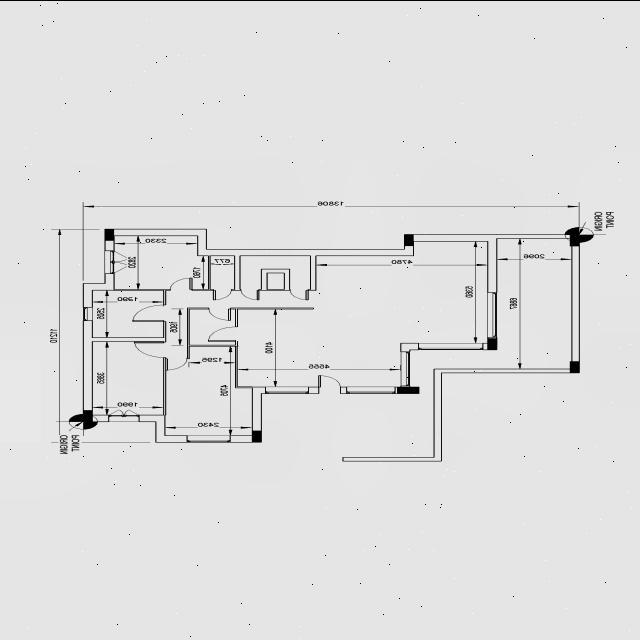Column: (252, 429, 262, 442), (570, 233, 580, 246), (404, 233, 414, 246), (570, 360, 580, 372), (104, 228, 114, 240), (398, 387, 420, 392), (488, 338, 497, 349), (84, 409, 92, 421)
Door: (132, 304, 168, 322), (132, 340, 168, 357), (207, 325, 239, 341), (317, 374, 342, 394), (162, 356, 190, 370), (168, 276, 194, 290), (208, 306, 232, 320), (288, 288, 310, 300), (212, 288, 232, 300), (240, 288, 260, 300)
Window: (104, 250, 128, 274), (487, 291, 498, 337), (416, 342, 485, 349), (399, 350, 411, 386), (108, 408, 140, 421), (346, 385, 396, 393), (186, 434, 232, 442), (264, 386, 310, 394), (82, 306, 94, 320)
